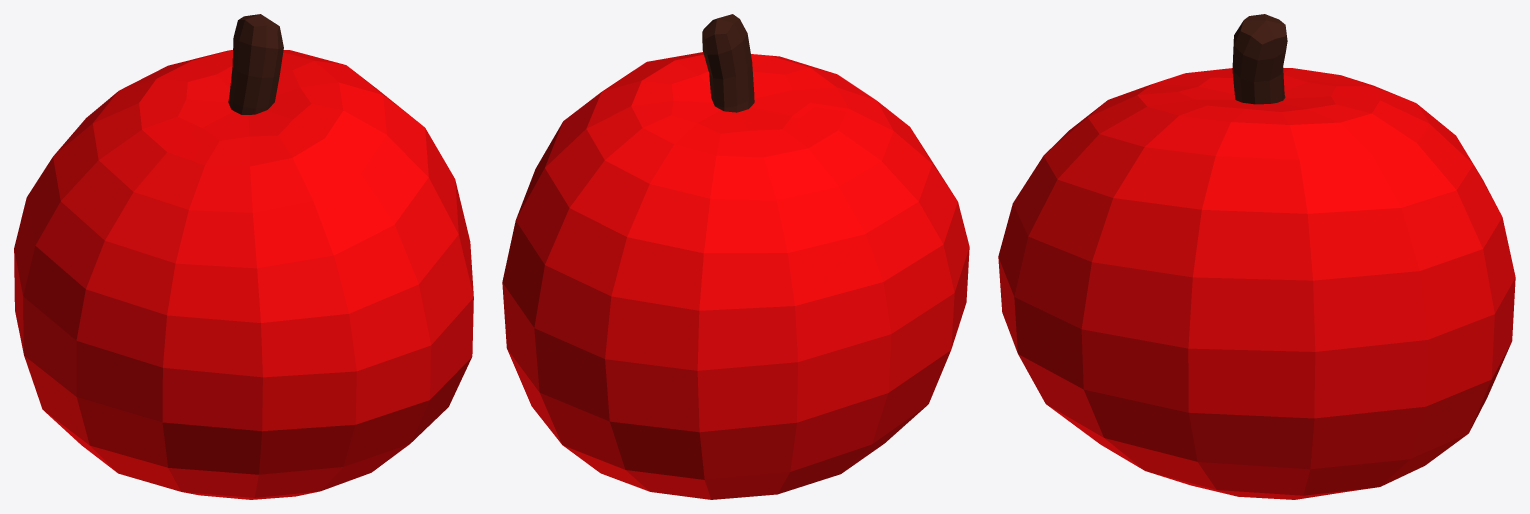
The model's file is apple.fbx.
3 views of the same model, side by side, from view 1: azimuth 30°, elevation 25°; view 2: azimuth 150°, elevation 25°; view 3: azimuth 270°, elevation 25° (orthographic). The views are drawn at different scales.
Parts seen in each view (by area): view 1: apple; view 2: apple; view 3: apple.
Part boxes in pixels (x1,y1,x2,y2): apple: [14, 14, 473, 499]; apple: [502, 14, 969, 499]; apple: [998, 14, 1515, 499].
Bounding box in the file's own units: 10.98 × 11.93 × 12.47.
